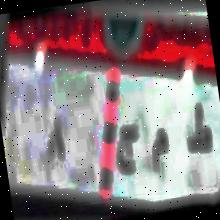8: (40, 111, 74, 171)
Taa: (176, 96, 218, 165)
jeem: (106, 114, 144, 185)
meem: (144, 112, 176, 188)
